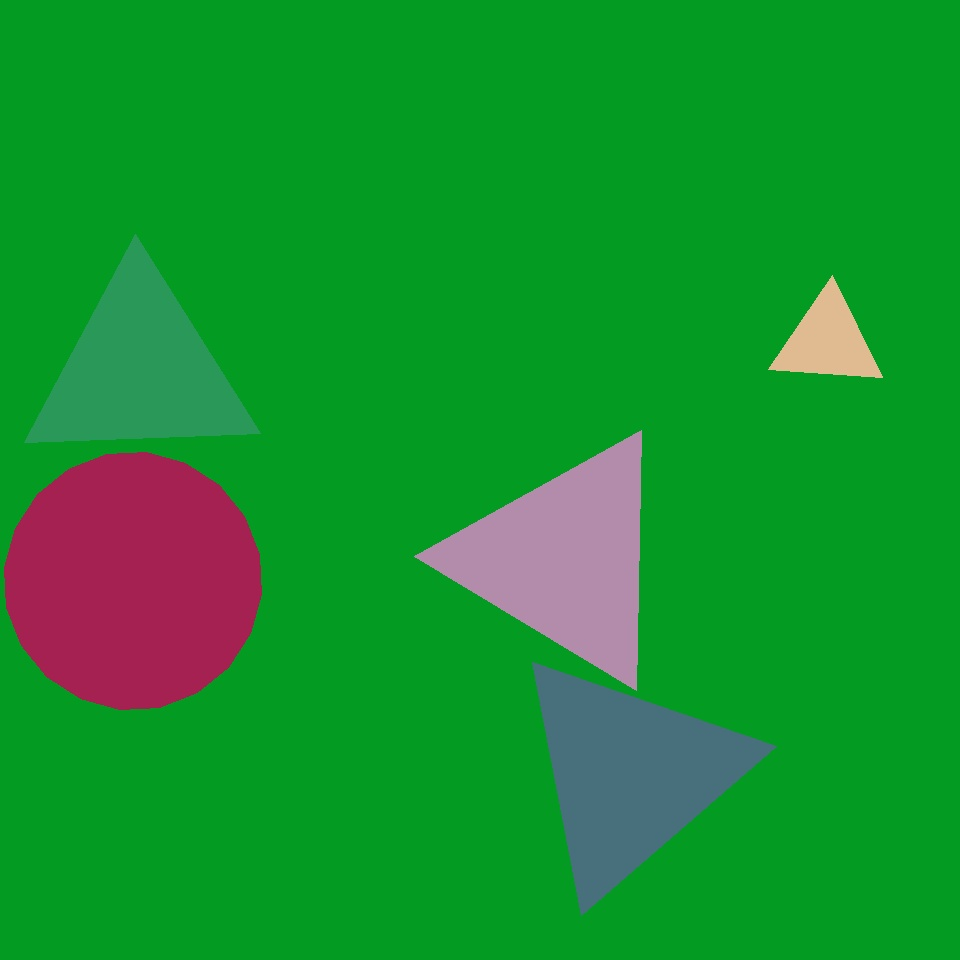circle: (508, 648, 752, 901), (450, 429, 678, 689), (22, 266, 258, 474), (771, 290, 885, 392)
triangle: (5, 452, 262, 710)
